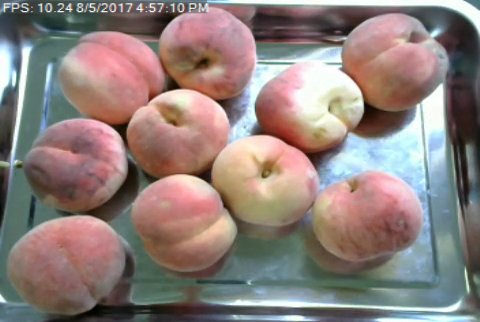Peach: (9, 214, 126, 315), (340, 11, 447, 113), (309, 171, 424, 263), (131, 174, 235, 274), (60, 28, 163, 127), (210, 135, 317, 229), (253, 60, 361, 152), (24, 118, 128, 212), (126, 87, 230, 178), (159, 6, 256, 100)
